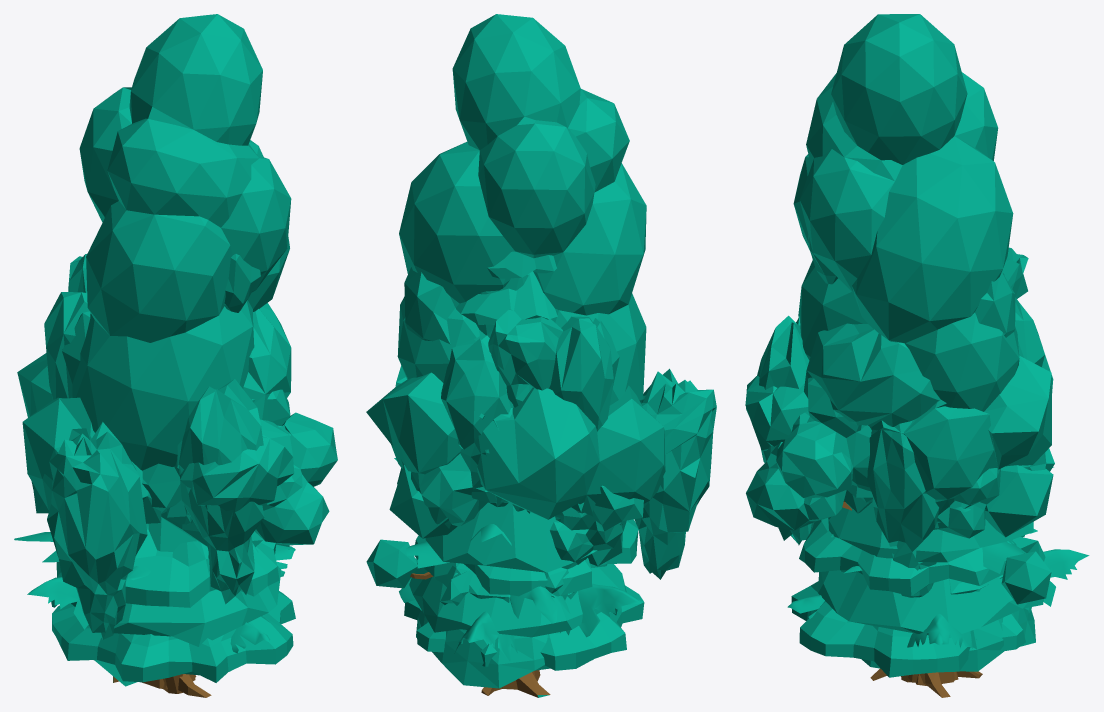
File: NatureAssetsV2Trees.fbx
3 renders of one model, left to right at view 1: azimuth 30°, elevation 25°; view 2: azimuth 150°, elevation 25°; view 3: azimuth 270°, elevation 25°, orthographic. The views are drawn at different scales.
Parts seen in each view (by area): view 1: Tree_9, Tree_12, Tree_10, Tree_5, Tree_8, Tree_6, Tree_4, Tree_7, Tree_2; view 2: Tree_9, Tree_6, Tree_4, Tree_12, Tree_7, Tree_10, Tree_8, Tree_3, Tree_2, Tree_1, Tree_5; view 3: Tree_9, Tree_8, Tree_10, Tree_6, Tree_5, Tree_4, Tree_12, Tree_1, Tree_2, Tree_7, Tree_3.
Boxes of the visible parts, x1,y1,x2,y2 form: Tree_9: (72,14,291,470); Tree_12: (43,254,264,692); Tree_10: (52,513,295,693); Tree_5: (163,303,294,689); Tree_8: (31,389,337,697); Tree_6: (17,311,207,688); Tree_4: (56,517,281,690); Tree_7: (44,254,260,524); Tree_2: (14,532,295,653); Tree_9: (397,14,646,405); Tree_6: (366,318,665,689); Tree_4: (409,251,626,637); Tree_12: (488,309,716,579); Tree_7: (404,267,613,513); Tree_10: (404,519,644,670); Tree_8: (391,444,643,697); Tree_3: (416,563,593,688); Tree_2: (394,458,641,661); Tree_1: (366,465,622,588); Tree_5: (411,408,524,528); Tree_9: (793,14,1019,411); Tree_8: (746,377,1000,697); Tree_10: (791,485,1031,682); Tree_6: (844,355,1053,684); Tree_5: (745,323,1054,683); Tree_4: (818,270,1043,685); Tree_12: (757,247,1028,682); Tree_1: (985,465,1053,604); Tree_2: (787,467,1089,648); Tree_7: (808,235,1044,367); Tree_3: (861,540,1035,671).
Size of the model in its own units: 39.52 by 40.52 by 87.34.
